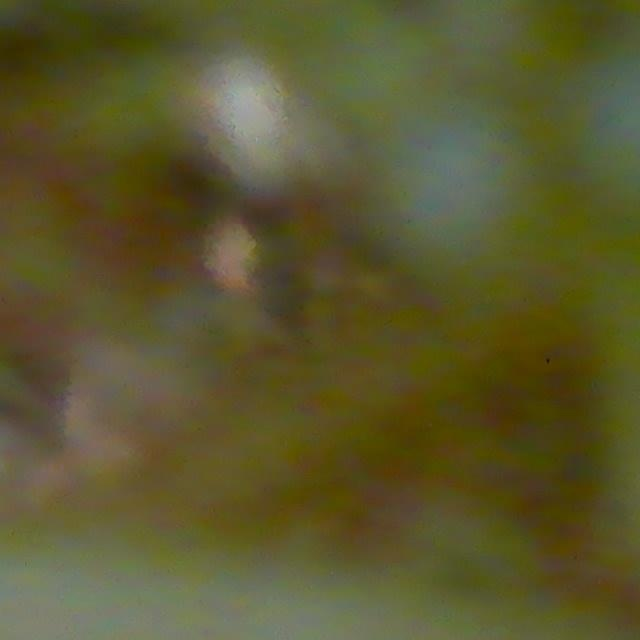SeaGrape: (388, 122, 560, 306), (424, 0, 584, 110)
